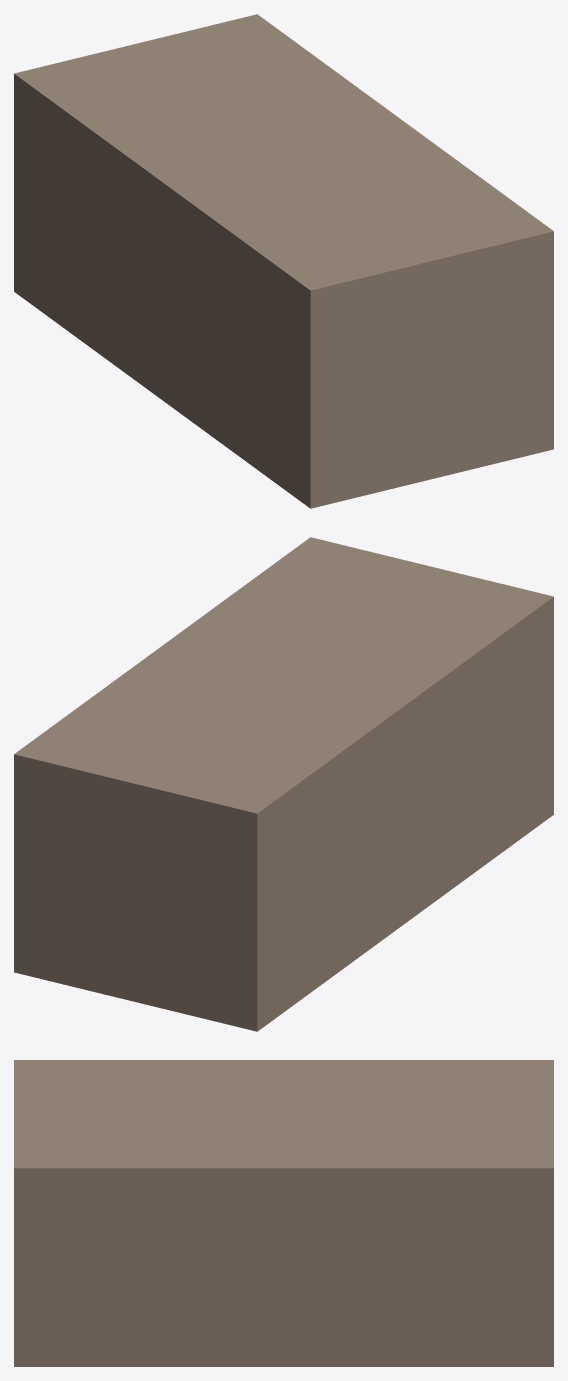
Rendered from Coffin_Chest.fbx.
The picture shows the model from 3 angles, top to bottom: view 1: azimuth 30°, elevation 25°; view 2: azimuth 150°, elevation 25°; view 3: azimuth 270°, elevation 25°; orthographic projection. The views are drawn at different scales.
Parts seen in each view (by area): view 1: Chest_Base, Top_Lid; view 2: Chest_Base, Top_Lid; view 3: Chest_Base, Top_Lid.
Boxes of the visible parts, bbox=[...] form: Chest_Base: bbox=[14, 105, 553, 508]; Top_Lid: bbox=[14, 14, 553, 321]; Chest_Base: bbox=[14, 628, 553, 1031]; Top_Lid: bbox=[14, 537, 553, 844]; Chest_Base: bbox=[14, 1196, 553, 1366]; Top_Lid: bbox=[14, 1060, 553, 1196].
Size of the model in its own units: 202 by 173 by 426.
